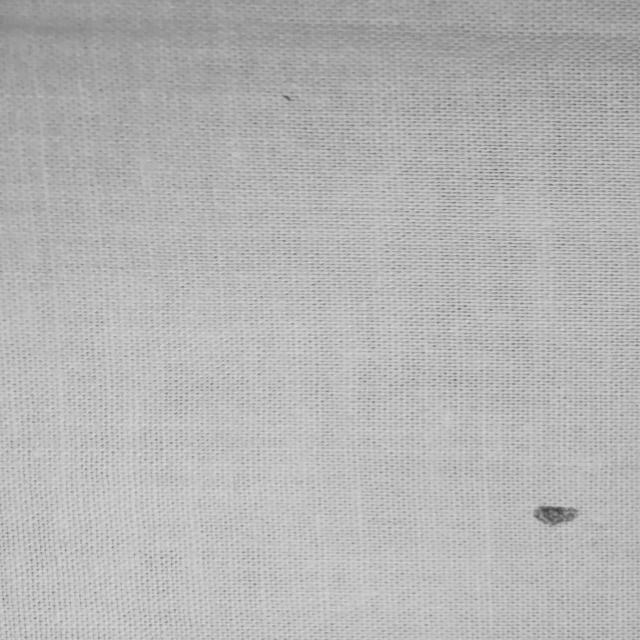Stain: (534, 507, 578, 527)
